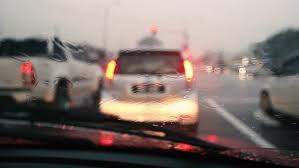car: (100, 47, 198, 133), (1, 35, 103, 110), (260, 51, 299, 120)
